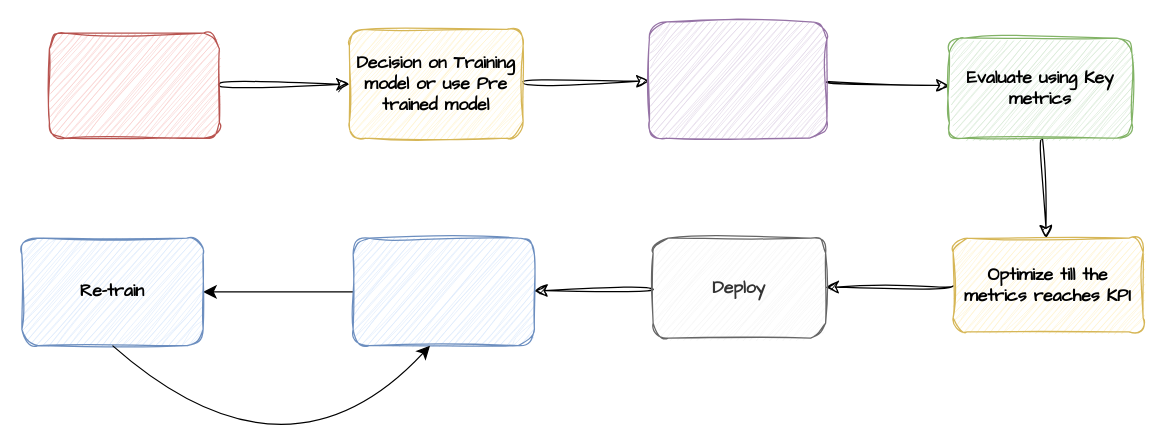
Image size: 1165x446. Some labels were removed from this diagram. The centre of each missing label's shape, as x and y in pixels:
Business Objective & KPI: point 133,85
Monitor the metrics: point 443,291
Tuning Techniques like Fine Tuning/ RAG/ DPO: point 737,79
